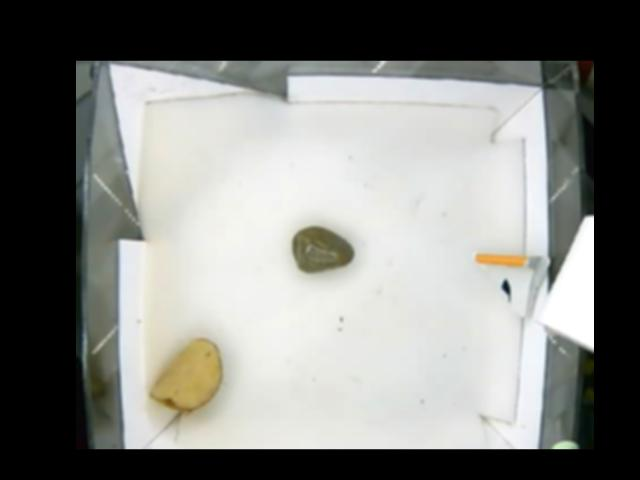China: (475, 255, 548, 319)
Pebble: (289, 225, 356, 272)
Potato: (147, 335, 225, 412)
